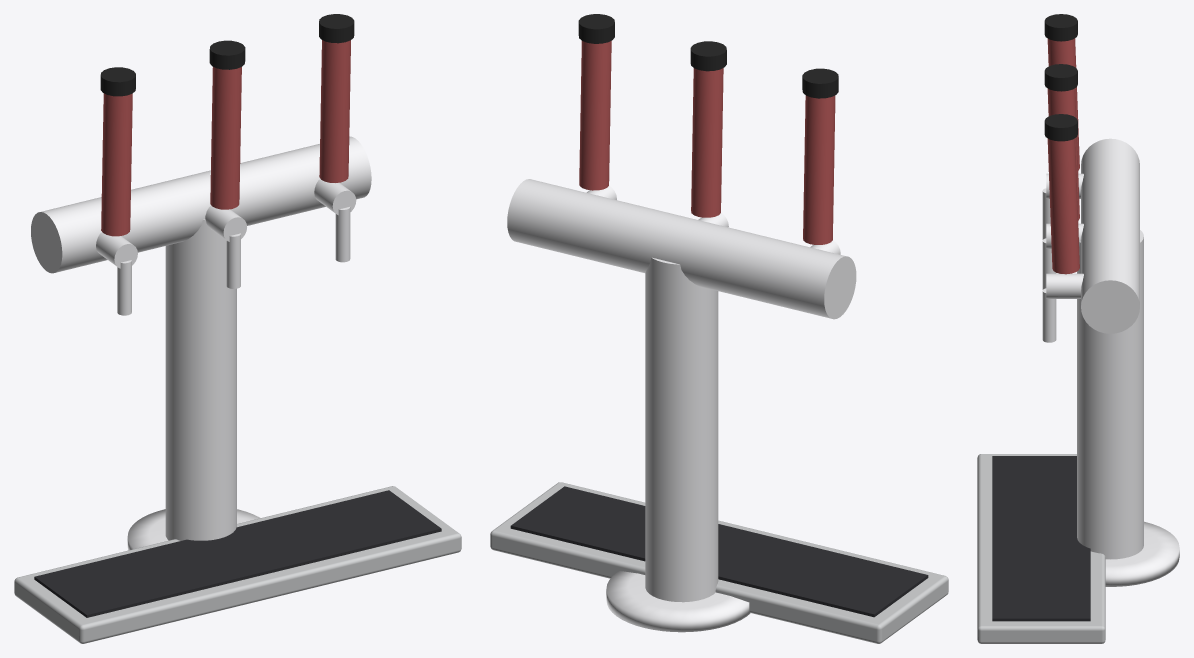
Rendered from torre_grifos.glb.
The picture shows the model from 3 angles, left to right: view 1: azimuth 30°, elevation 25°; view 2: azimuth 150°, elevation 25°; view 3: azimuth 270°, elevation 25°; orthographic projection. The views are drawn at different scales.
Parts seen in each view (by area): view 1: base, rejilla, cubeta, mando_0, pomo_0; view 2: base, rejilla, mando_0, cubeta, pomo_0; view 3: base, rejilla, cubeta, mando_0, pomo_0.
Part boxes in pixels (bbox=[...]): base: bbox=[31, 136, 371, 550]; rejilla: bbox=[34, 490, 441, 617]; cubeta: bbox=[14, 486, 461, 643]; mando_0: bbox=[101, 40, 350, 236]; pomo_0: bbox=[100, 14, 354, 96]; base: bbox=[507, 179, 856, 632]; rejilla: bbox=[510, 486, 928, 617]; mando_0: bbox=[579, 41, 835, 244]; cubeta: bbox=[490, 482, 948, 643]; pomo_0: bbox=[578, 14, 838, 98]; base: bbox=[1042, 138, 1179, 586]; rejilla: bbox=[992, 456, 1090, 621]; cubeta: bbox=[977, 454, 1105, 643]; mando_0: bbox=[1047, 38, 1079, 274]; pomo_0: bbox=[1044, 14, 1077, 141].
Size of the model in its own units: 0.42 by 0.545 by 0.205.
